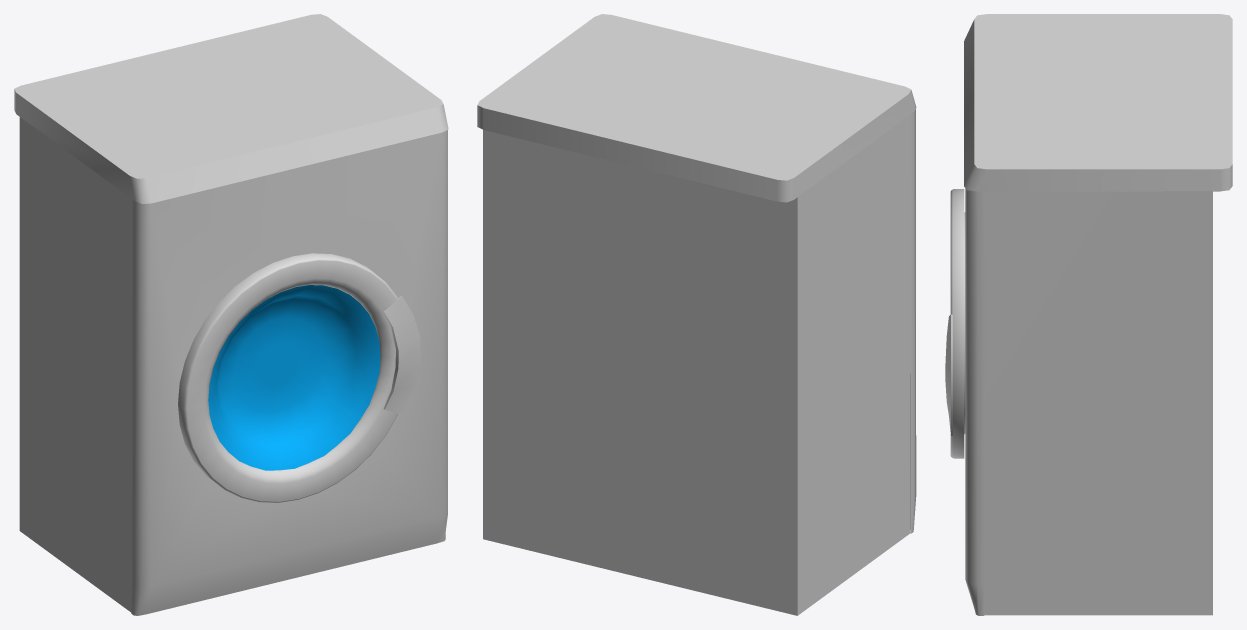
The model's file is Washer.FBX.
3 renders of one model, left to right at view 1: azimuth 30°, elevation 25°; view 2: azimuth 150°, elevation 25°; view 3: azimuth 270°, elevation 25°, orthographic. The views are drawn at different scales.
Visible parts, largest first — view 1: Washer, Glass; view 2: Washer; view 3: Washer.
Part boxes in pixels (bbox=[...]): Washer: bbox=[14, 14, 448, 615]; Glass: bbox=[208, 285, 380, 470]; Washer: bbox=[477, 14, 916, 615]; Washer: bbox=[945, 14, 1232, 615].
Bounding box in the file's own units: 75.77 × 101 × 59.06.
